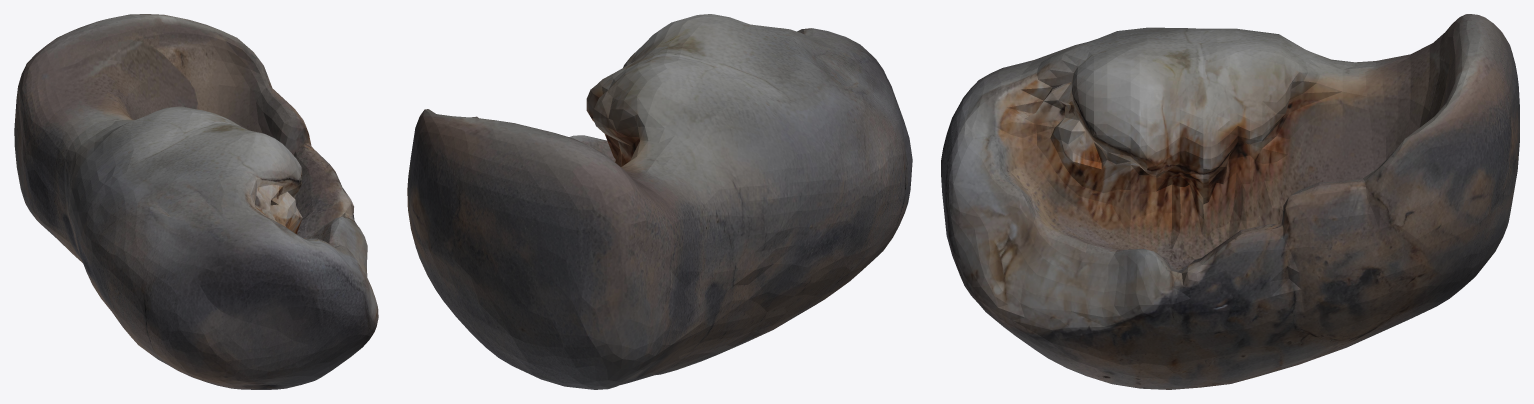
Rendered from cetacean_fossils_001.glb.
3 views of the same model, side by side, from view 1: azimuth 30°, elevation 25°; view 2: azimuth 150°, elevation 25°; view 3: azimuth 270°, elevation 25° (orthographic). The views are drawn at different scales.
Visible parts, largest first — view 1: tripo_node_9c8e46f9-2a29-4b78-b8c5-7b4dbb8f4105; view 2: tripo_node_9c8e46f9-2a29-4b78-b8c5-7b4dbb8f4105; view 3: tripo_node_9c8e46f9-2a29-4b78-b8c5-7b4dbb8f4105.
Part boxes in pixels (bbox=[...]): tripo_node_9c8e46f9-2a29-4b78-b8c5-7b4dbb8f4105: bbox=[14, 14, 378, 389]; tripo_node_9c8e46f9-2a29-4b78-b8c5-7b4dbb8f4105: bbox=[407, 14, 912, 389]; tripo_node_9c8e46f9-2a29-4b78-b8c5-7b4dbb8f4105: bbox=[941, 14, 1519, 389].
Bounding box in the file's own units: 0.6353 × 0.5803 × 0.9501.
1 material, 1 textured.
